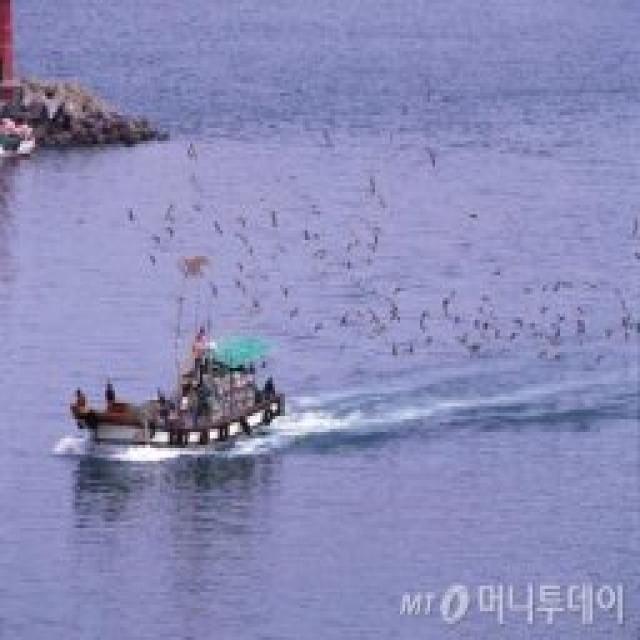Ship: (54, 238, 294, 459)
